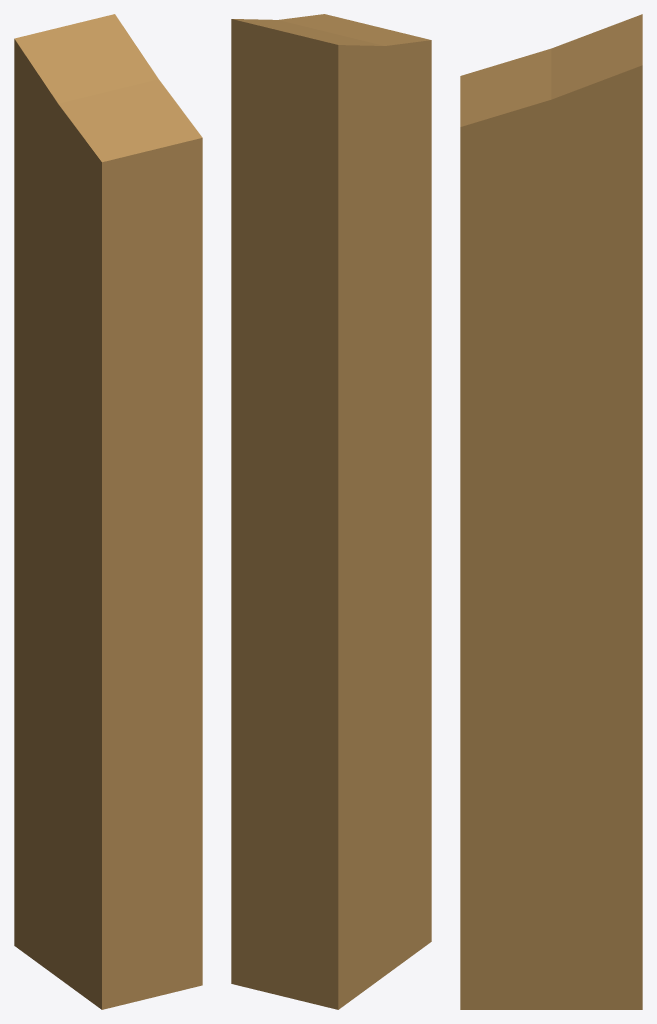
3 views of the same model, side by side, from view 1: azimuth 30°, elevation 25°; view 2: azimuth 150°, elevation 25°; view 3: azimuth 270°, elevation 25° (orthographic). The views are drawn at different scales.
Parts seen in each view (by area): view 1: L1-3-S4-320-M06; view 2: L1-3-S4-320-M06; view 3: L1-3-S4-320-M06.
Part boxes in pixels (x1,y1,x2,y2): L1-3-S4-320-M06: [14, 14, 202, 1009]; L1-3-S4-320-M06: [231, 14, 431, 1009]; L1-3-S4-320-M06: [460, 14, 642, 1009].
Size of the model in its own units: 0.045 by 0.3876 by 0.0679.
